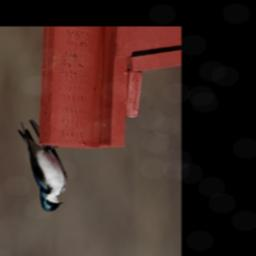Swallow: (17, 120, 68, 213)
